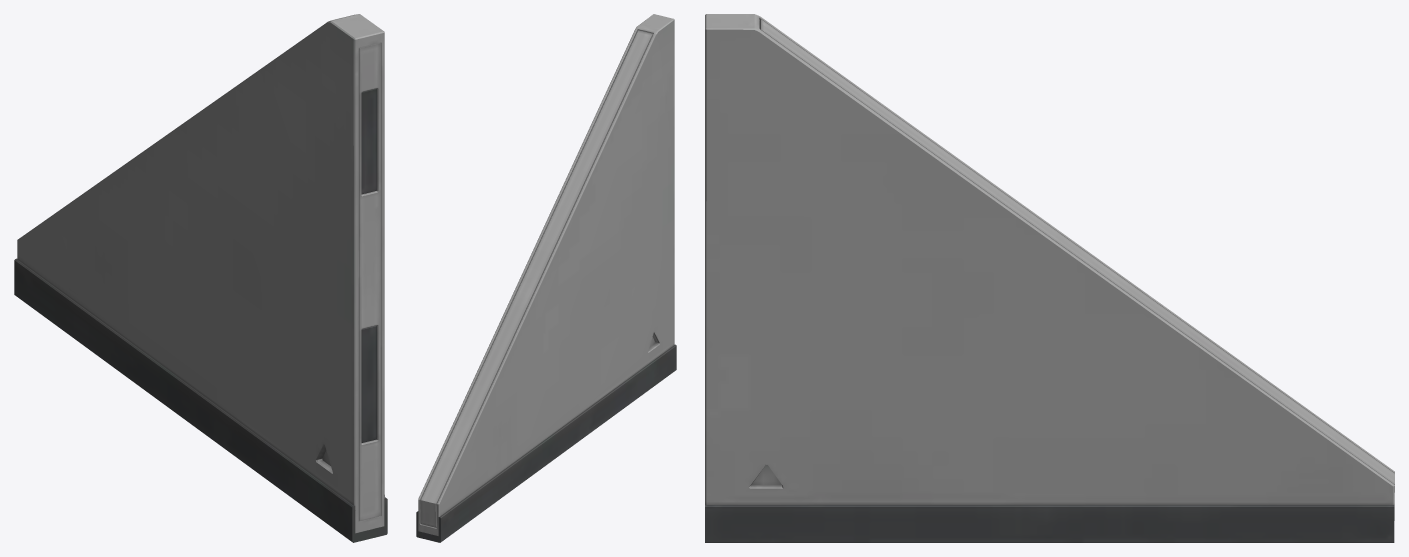
Rendered from SM_WallTryangle_SF_8f1f06.glb.
The picture shows the model from 3 angles, left to right: view 1: azimuth 30°, elevation 25°; view 2: azimuth 150°, elevation 25°; view 3: azimuth 270°, elevation 25°; orthographic projection. The views are drawn at different scales.
Bounding box in the file's own units: 0.2402 × 3.29 × 4.
Materials: 1 (1 with a texture image).
